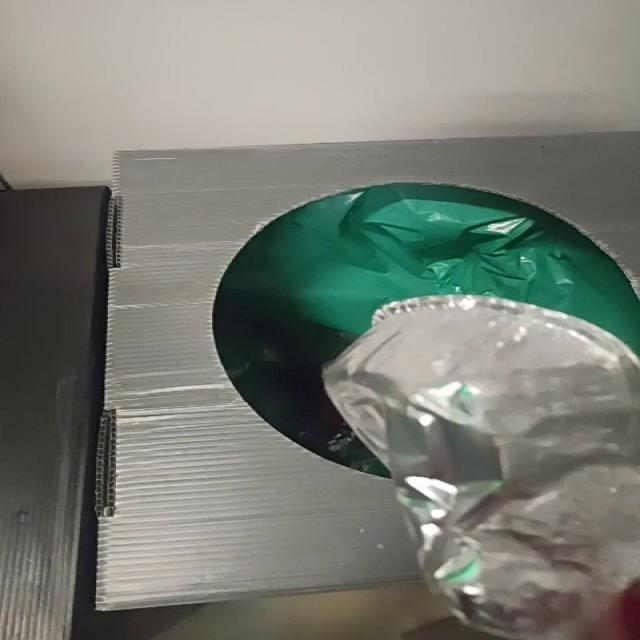bin: (95, 133, 637, 612)
metal: (324, 296, 639, 640)
